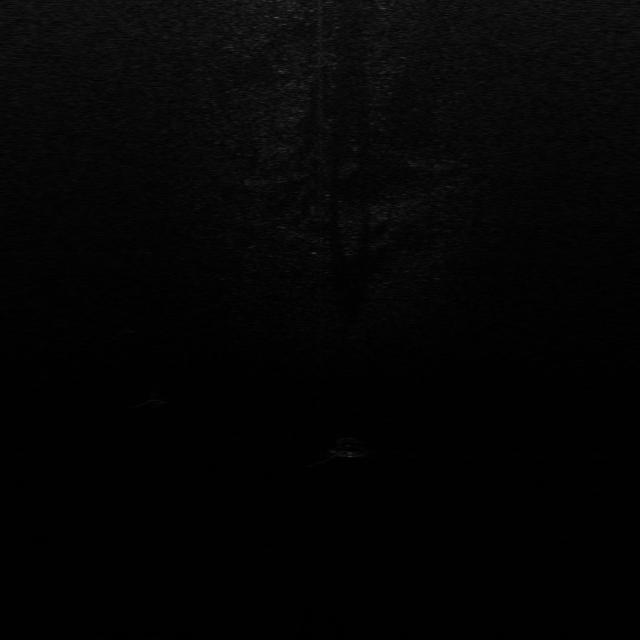ball: (147, 384, 176, 406)
circle cage: (123, 318, 146, 334)
tyre: (333, 437, 372, 459)
